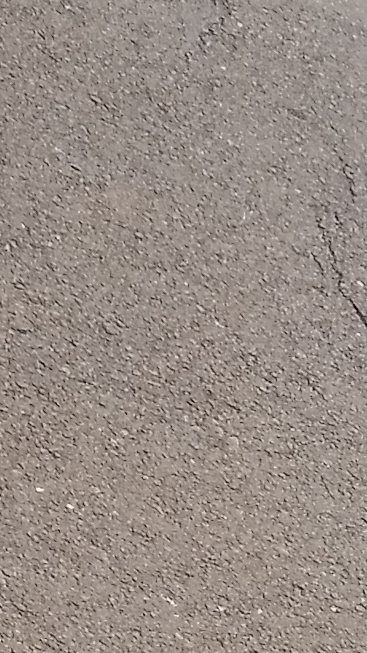A: (295, 82, 367, 339)
